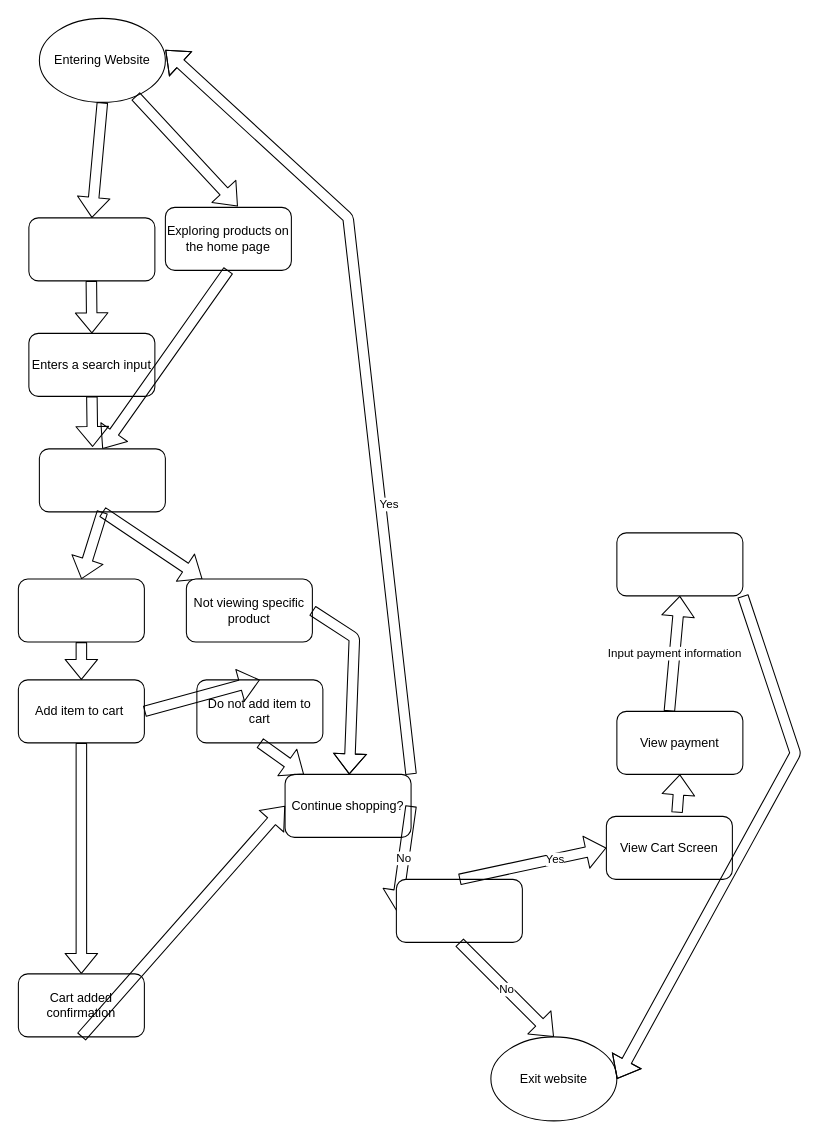
The diagram is 819 pixels wide and 1139 high, and some of its shapes have lost their labels. The shapes that lost their labels are listed below. From the top down, each one's box as (x1, y1, x2, y2) in pixels, then its label:
(28, 217, 155, 281): Search for a product
(38, 448, 165, 512): Begin look over products
(616, 532, 743, 596): Order confirmation and email sent
(17, 578, 144, 642): Viewing specific product
(395, 878, 522, 942): Checkout?
